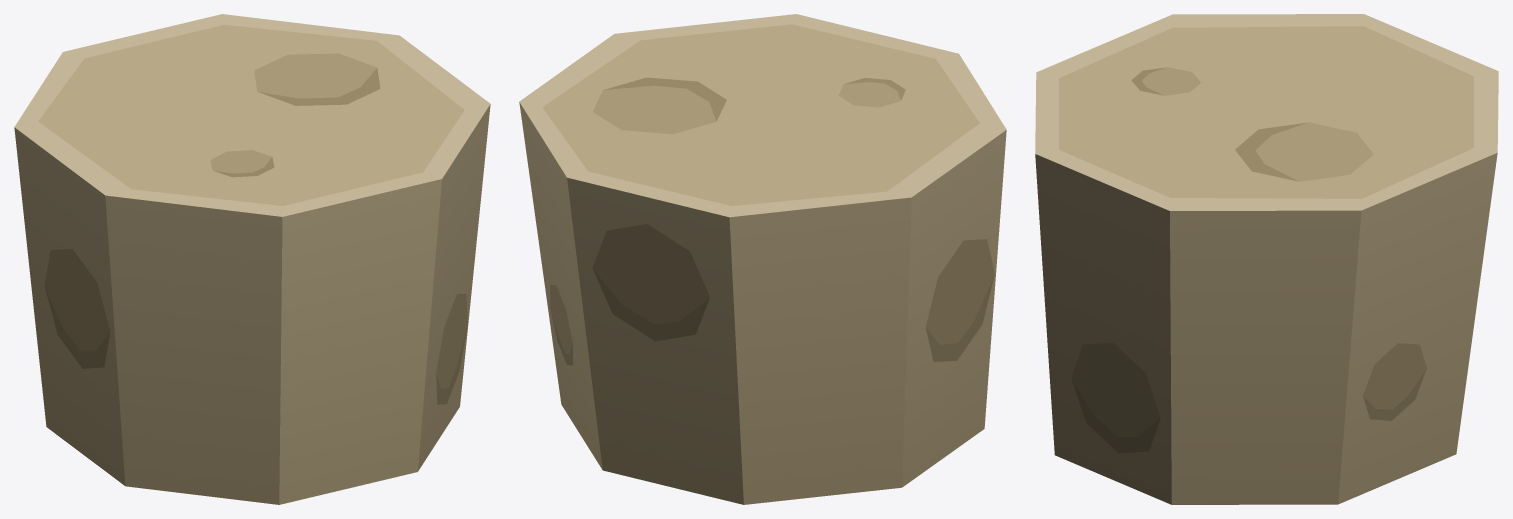
File: Cork.glb
3 views of the same model, side by side, from view 1: azimuth 30°, elevation 25°; view 2: azimuth 150°, elevation 25°; view 3: azimuth 270°, elevation 25° (orthographic). The views are drawn at different scales.
Visible parts, largest first — view 1: Cork; view 2: Cork; view 3: Cork.
Part boxes in pixels (x1=…): Cork: x1=14, y1=14, x2=490, y2=504; Cork: x1=519, y1=14, x2=1006, y2=504; Cork: x1=1035, y1=14, x2=1498, y2=504.
Bounding box in the file's own units: 0.2464 × 0.1838 × 0.2464.
